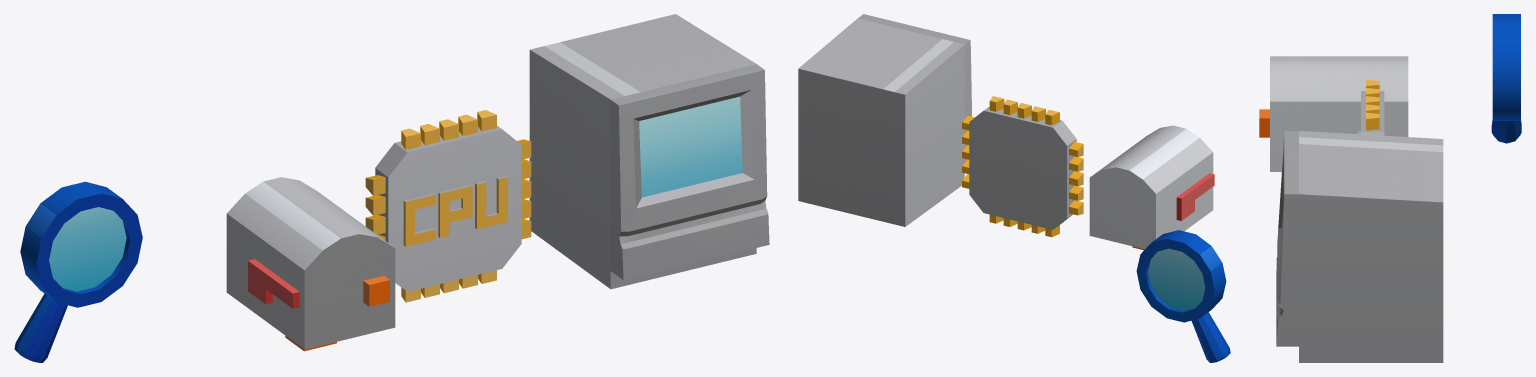
The model's file is SM_AssetsCeci.fbx.
3 renders of one model, left to right at view 1: azimuth 30°, elevation 25°; view 2: azimuth 150°, elevation 25°; view 3: azimuth 270°, elevation 25°, orthographic. The views are drawn at different scales.
Visible parts, largest first — view 1: MSH_PC, MSH_CPU, MSH_Buzon, MSH_Lupa; view 2: MSH_PC, MSH_CPU, MSH_Buzon, MSH_Lupa; view 3: MSH_PC, MSH_Buzon, MSH_Lupa, MSH_CPU.
Part boxes in pixels (x1,y1,x2,y2): MSH_PC: (529, 14, 769, 289); MSH_CPU: (365, 110, 531, 302); MSH_Buzon: (226, 177, 395, 351); MSH_Lupa: (14, 181, 142, 362); MSH_PC: (798, 14, 971, 226); MSH_CPU: (962, 96, 1083, 237); MSH_Buzon: (1089, 125, 1214, 250); MSH_Lupa: (1136, 230, 1230, 362); MSH_PC: (1276, 131, 1443, 362); MSH_Buzon: (1259, 56, 1408, 171); MSH_Lupa: (1491, 14, 1521, 143); MSH_CPU: (1357, 79, 1384, 135).
Size of the model in its own units: 138 by 49.71 by 56.4.
